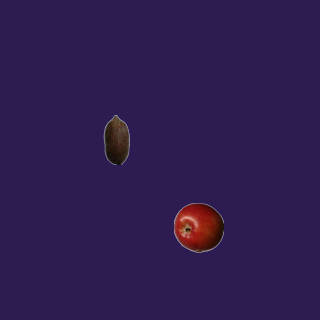Apple Braeburn: (173, 202, 223, 252)
Nut Pecan: (91, 114, 141, 164)
